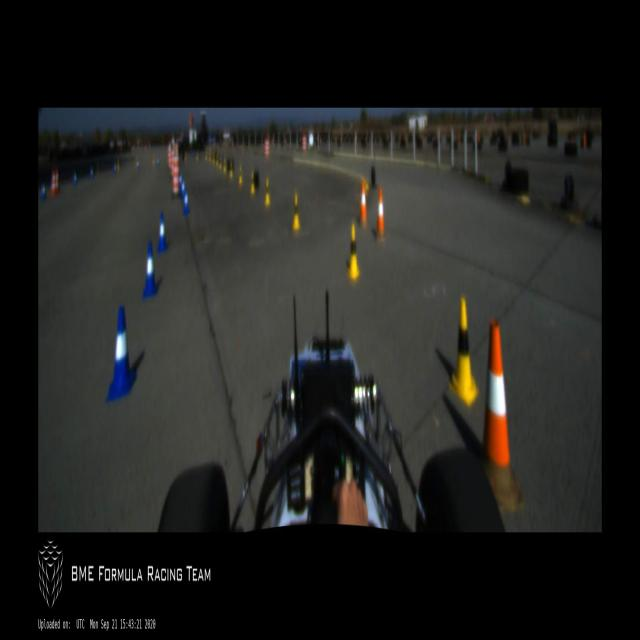blue_cone: (106, 306, 135, 403), (142, 240, 158, 299), (156, 212, 168, 253), (183, 188, 189, 215), (41, 182, 46, 200), (181, 179, 185, 199), (178, 168, 182, 187), (73, 170, 77, 186), (90, 165, 94, 179), (113, 160, 116, 176), (156, 156, 160, 168), (138, 157, 140, 168)
large_orange_cone: (50, 171, 56, 195), (56, 169, 59, 194)
unknown_cone: (481, 318, 523, 510), (376, 186, 386, 243), (359, 181, 368, 229)
yellow_cone: (449, 298, 479, 405), (347, 224, 360, 281), (292, 194, 300, 232), (264, 179, 270, 206), (250, 172, 256, 194), (239, 166, 242, 185), (229, 162, 232, 180), (223, 158, 226, 174), (195, 148, 199, 160), (212, 151, 215, 164), (208, 149, 211, 162), (152, 154, 155, 164), (219, 156, 221, 170), (216, 152, 218, 165), (135, 155, 137, 168), (117, 158, 119, 171), (205, 148, 207, 160)
